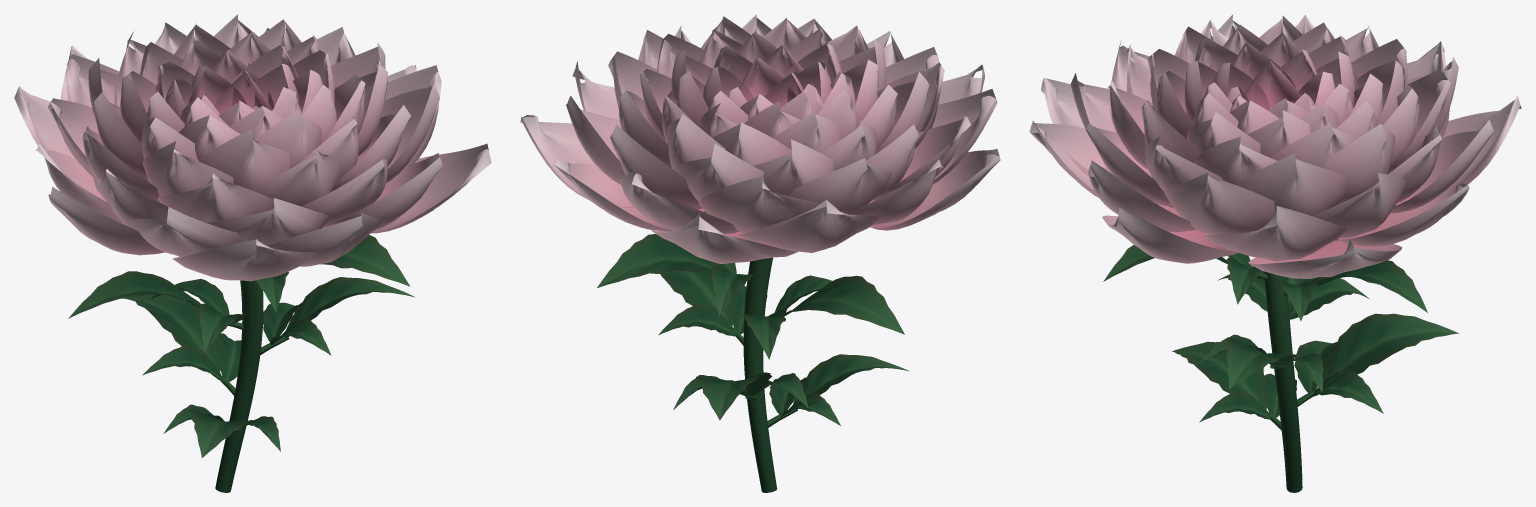
The model's file is peony-rose.glb.
The picture shows the model from 3 angles, left to right: view 1: azimuth 30°, elevation 25°; view 2: azimuth 150°, elevation 25°; view 3: azimuth 270°, elevation 25°; orthographic projection. The views are drawn at different scales.
Parts seen in each view (by area): view 1: BloomPetals, Leaf_4, Leaf_2, StemCalyx, Leaf_3, Leaf_0, Leaf_5; view 2: BloomPetals, Leaf_2, Leaf_1, StemCalyx, Leaf_3, Leaf_5, Leaf_4; view 3: BloomPetals, Leaf_4, StemCalyx, Leaf_5, Leaf_3, Leaf_1, Leaf_0, Leaf_2.
Boxes of the visible parts, bbox=[...] form: BloomPetals: bbox=[14, 14, 491, 281]; Leaf_4: bbox=[121, 294, 241, 395]; Leaf_2: bbox=[68, 271, 247, 352]; StemCalyx: bbox=[215, 280, 263, 492]; Leaf_3: bbox=[260, 277, 415, 355]; Leaf_0: bbox=[255, 235, 410, 312]; Leaf_5: bbox=[163, 404, 280, 457]; BloomPetals: bbox=[520, 14, 1000, 263]; Leaf_2: bbox=[743, 275, 904, 359]; Leaf_1: bbox=[597, 234, 754, 316]; StemCalyx: bbox=[704, 211, 776, 492]; Leaf_3: bbox=[658, 261, 767, 345]; Leaf_5: bbox=[767, 354, 909, 427]; Leaf_4: bbox=[673, 372, 808, 420]; BloomPetals: bbox=[1029, 14, 1521, 278]; Leaf_4: bbox=[1294, 313, 1459, 413]; StemCalyx: bbox=[1169, 206, 1302, 492]; Leaf_5: bbox=[1172, 341, 1296, 430]; Leaf_3: bbox=[1200, 334, 1323, 392]; Leaf_1: bbox=[1276, 260, 1427, 321]; Leaf_0: bbox=[1103, 245, 1267, 304]; Leaf_2: bbox=[1218, 239, 1368, 319].
Bounding box in the file's own units: 2.73 × 2.58 × 2.71.
